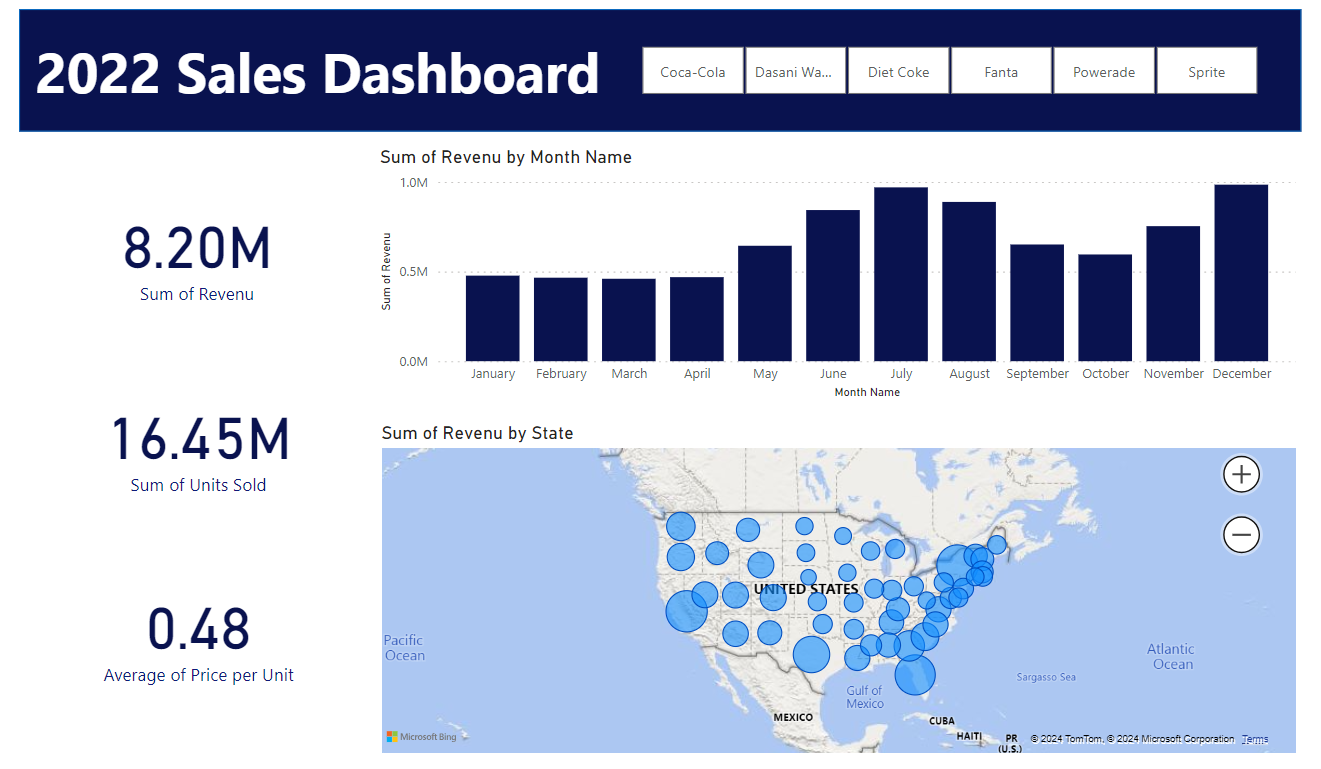

Layout of this report page (visuals, bound fields, positions):
{"tool":"powerbi","page":{"name":"第 1 頁","canvas":[1280,720],"ordinal":0},"visuals":[{"type":"shape","box":[47,11.3,1185.3,113.3],"z":0},{"type":"card","fields":{"Values":["Sum(Data.Revenu)"]},"box":[47,152.2,328.7,165.2],"z":1000},{"type":"card","fields":{"Values":["Sum(Data.Units Sold)"]},"box":[48.6,328.7,328.7,165.2],"z":2000},{"type":"card","fields":{"Values":["Avg(Data.Price per Unit)"]},"box":[48.6,505.2,328.7,165.2],"z":3000},{"type":"columnChart","fields":{"Y":["Sum(Data.Revenu)"],"Category":["Data.Month Name"]},"box":[375.7,137.6,856.6,238],"z":4000},{"type":"map","fields":{"Size":["Sum(Data.Revenu)"],"Category":["Data.State"]},"box":[377.3,391.9,855,310.9],"z":5000},{"type":"slicer","fields":{"Values":["Data.Beverage Brand"]},"box":[601.1,39.4,617.8,59.1],"z":6000}]}

Visuals, with their boxes on the page's 1280x720 design canvas (x1, y1, x2, y2). These are canvas units, not pixel positions in the 1321x769 screenshot, which may show the page scaled, cropped or inside an application window:
shape: bbox=[47, 11, 1232, 125]
card - Sum(Data.Revenu): bbox=[47, 152, 376, 317]
card - Sum(Data.Units Sold): bbox=[49, 329, 377, 494]
card - Avg(Data.Price per Unit): bbox=[49, 505, 377, 670]
columnChart - Sum(Data.Revenu) x Data.Month Name: bbox=[376, 138, 1232, 376]
map - Sum(Data.Revenu) x Data.State: bbox=[377, 392, 1232, 703]
slicer - Data.Beverage Brand: bbox=[601, 39, 1219, 98]
